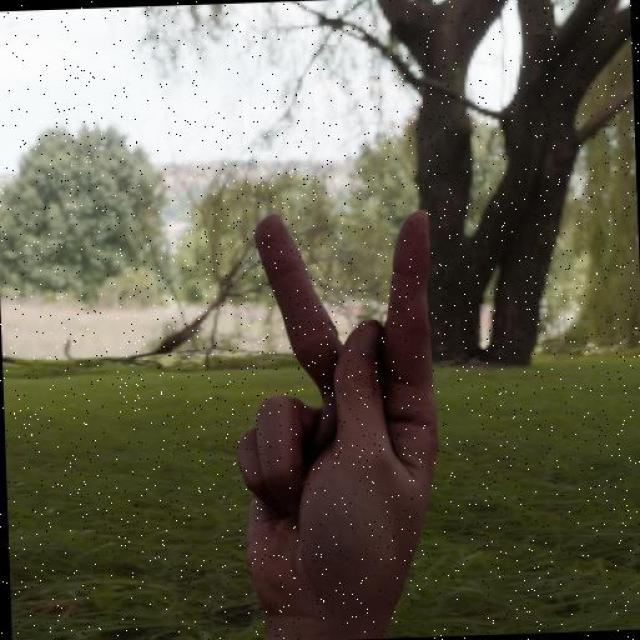K: (186, 166, 486, 640)
